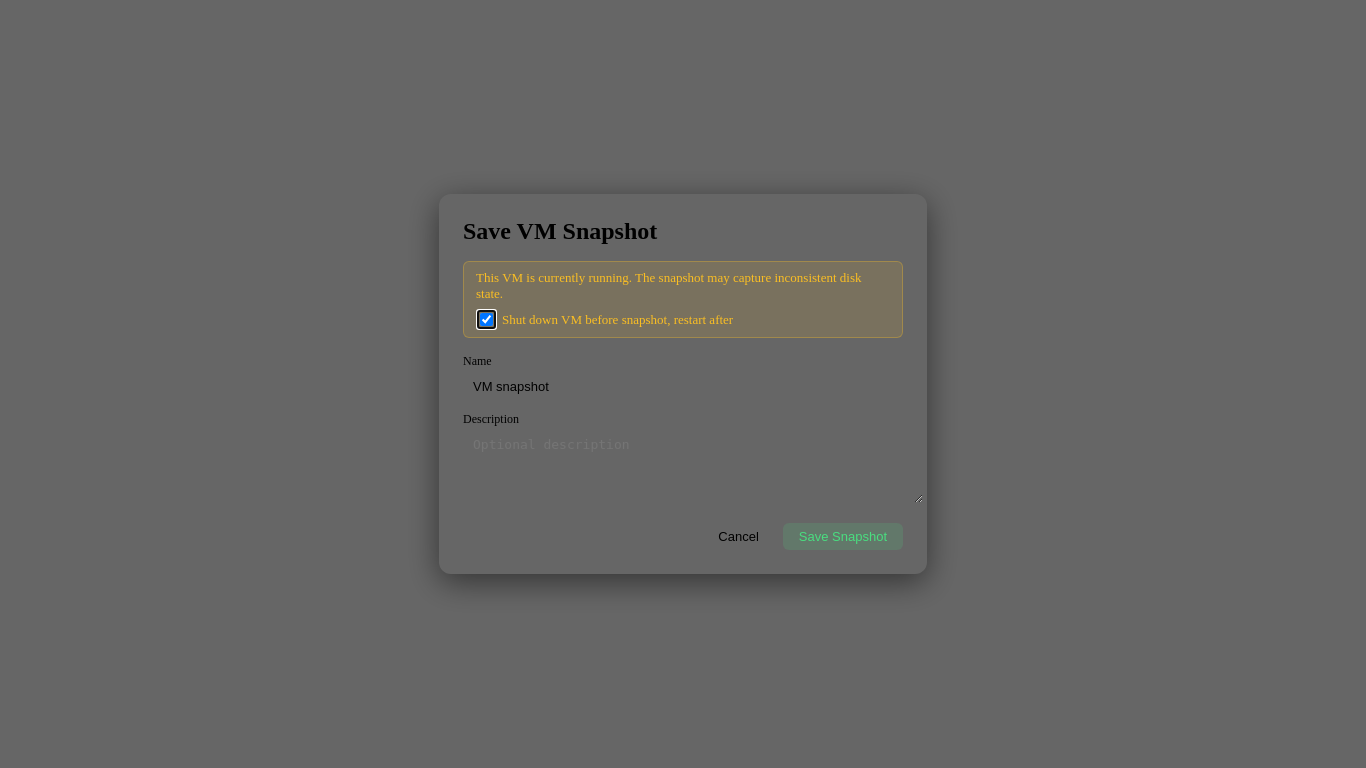
Test: capture dialogs › does not begin snapshot capture when force-stop never completes
This screenshot has width=1366, height=768.
Click the button "Save Snapshot": (843, 536) [783, 523, 903, 550]
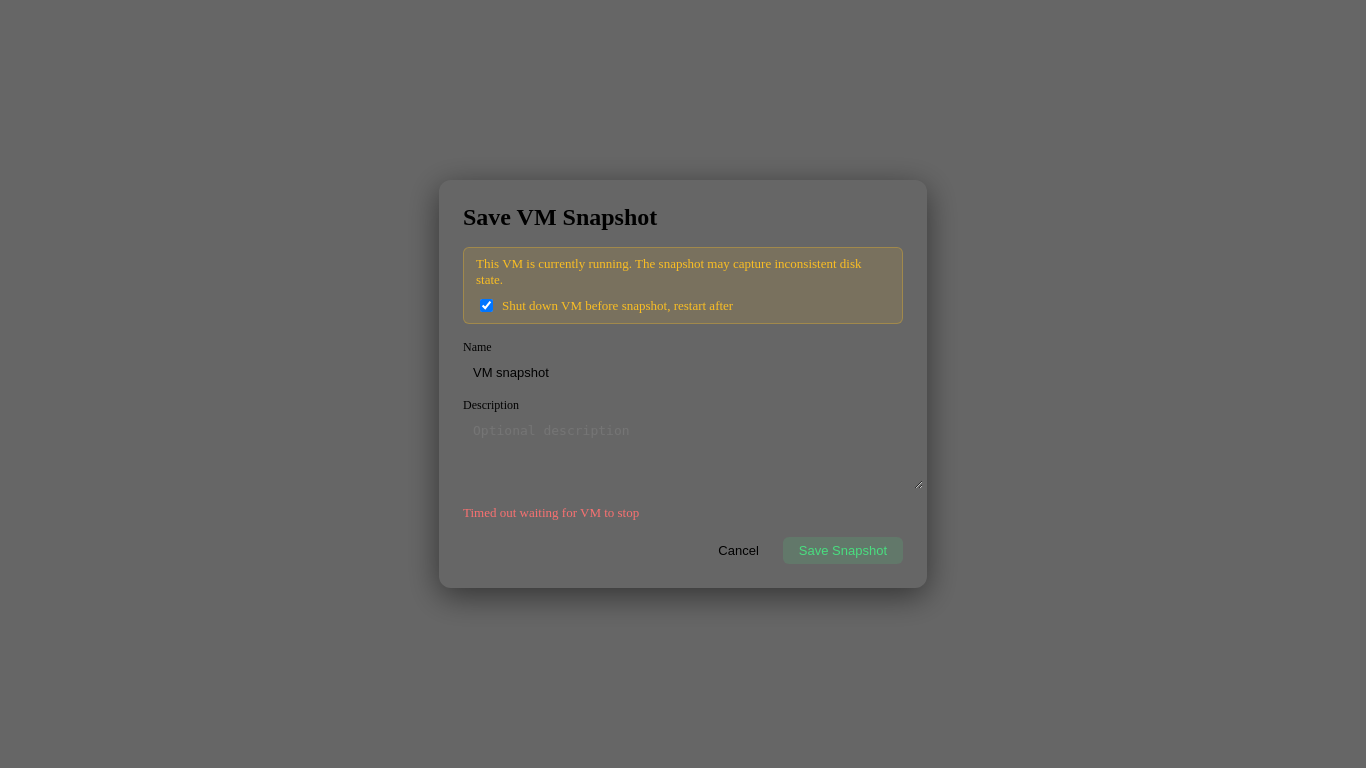
Result: the text "Timed out waiting for VM to stop" is shown at [463, 505, 639, 520]
